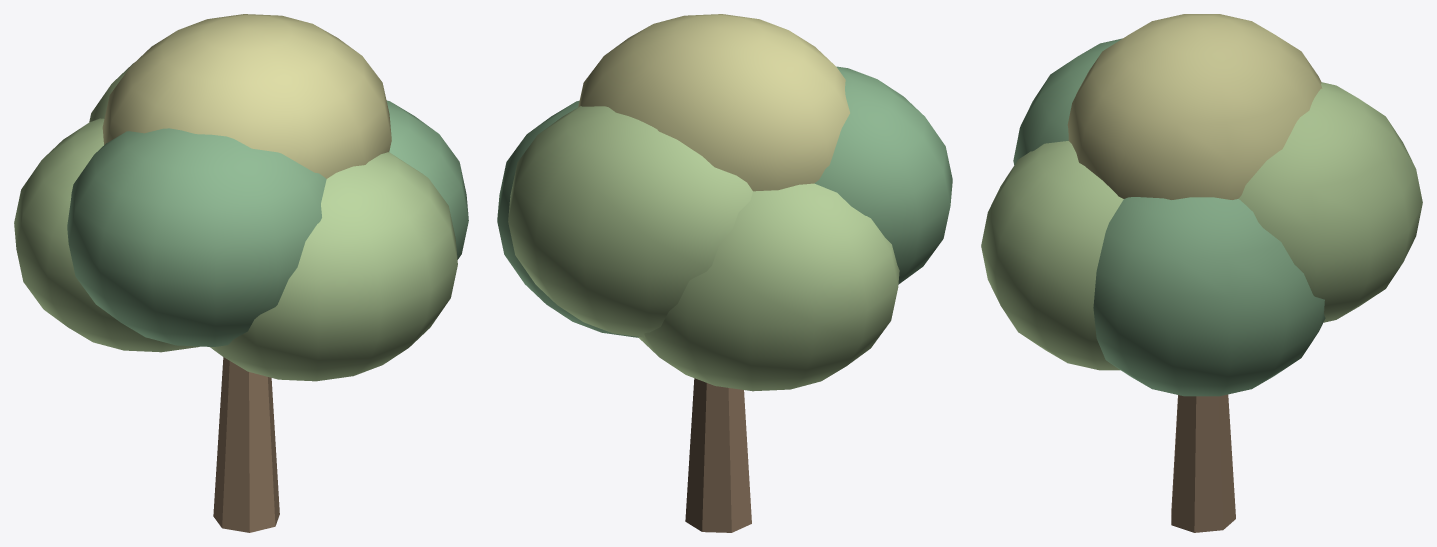
Rendered from qingqiu-tree.glb.
The picture shows the model from 3 angles, left to right: view 1: azimuth 30°, elevation 25°; view 2: azimuth 150°, elevation 25°; view 3: azimuth 270°, elevation 25°; orthographic projection.
Parts seen in each view (by area): view 1: qingqiu-tree; view 2: qingqiu-tree; view 3: qingqiu-tree.
Boxes of the visible parts, x1,y1,x2,y2 form: qingqiu-tree: (14, 14, 468, 532); qingqiu-tree: (497, 14, 952, 532); qingqiu-tree: (981, 14, 1422, 532).
Bounding box in the file's own units: 3.32 × 3.95 × 3.24.
